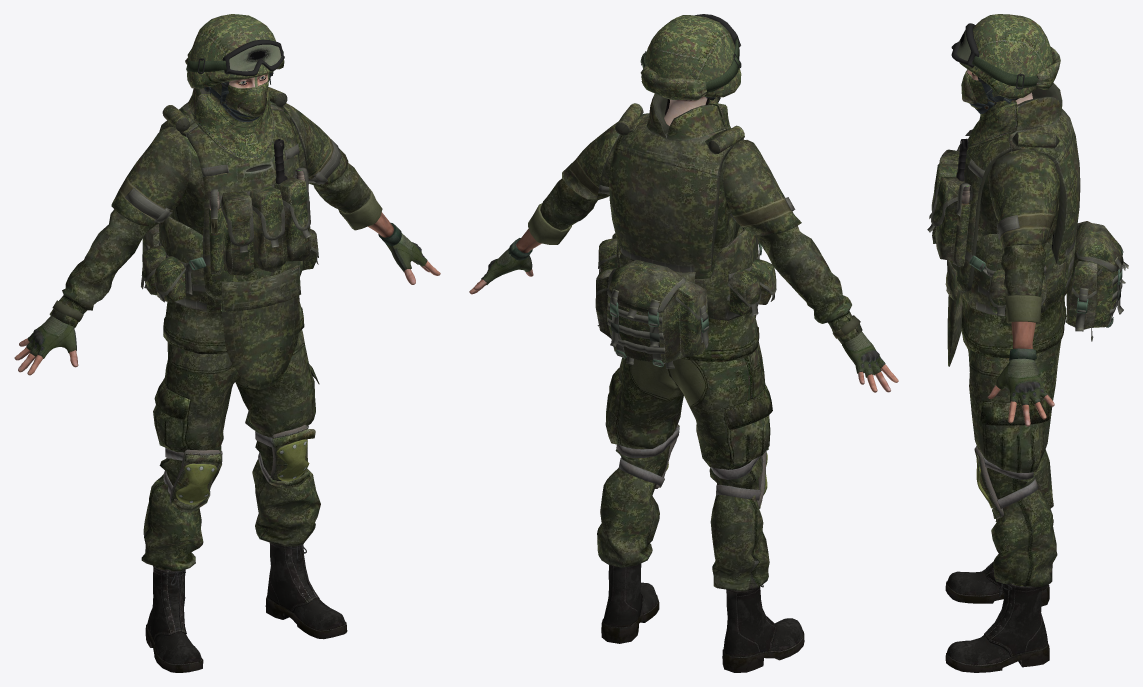
File: soldier.glb
3 views of the same model, side by side, from view 1: azimuth 30°, elevation 25°; view 2: azimuth 150°, elevation 25°; view 3: azimuth 270°, elevation 25° (orthographic).
Parts seen in each view (by area): view 1: Object_2, Object_6, Object_5, Object_4; view 2: Object_2, Object_6, Object_5, Object_4; view 3: Object_2, Object_6, Object_5, Object_4.
Boxes of the visible parts, left/top/right/bottom form: Object_2: left=14, top=107, right=440, bottom=672; Object_6: left=111, top=87, right=348, bottom=512; Object_5: left=141, top=139, right=318, bottom=302; Object_4: left=185, top=14, right=284, bottom=159; Object_2: left=469, top=134, right=898, bottom=672; Object_6: left=562, top=94, right=801, bottom=508; Object_5: left=595, top=233, right=776, bottom=368; Object_4: left=640, top=14, right=741, bottom=129; Object_2: left=945, top=151, right=1066, bottom=672; Object_6: left=945, top=83, right=1080, bottom=518; Object_5: left=927, top=138, right=1128, bottom=341; Object_4: left=951, top=14, right=1060, bottom=147.
Bounding box in the file's own units: 7.05 × 10 × 2.99.
5 materials, 5 textured.
